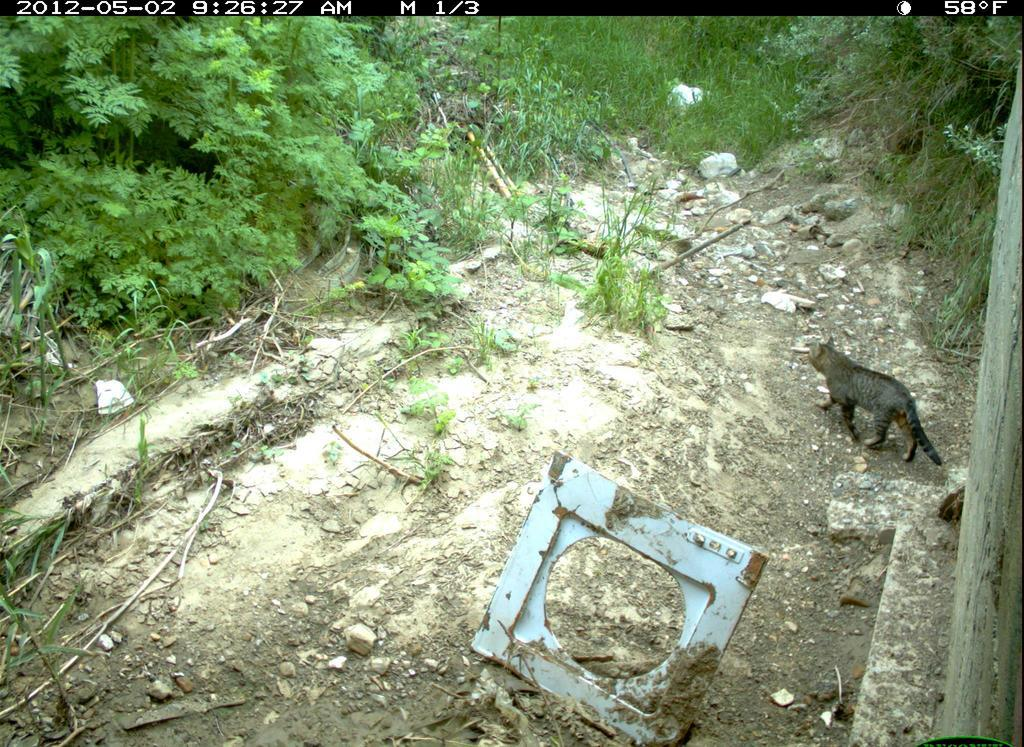cat: (802, 329, 950, 478)
